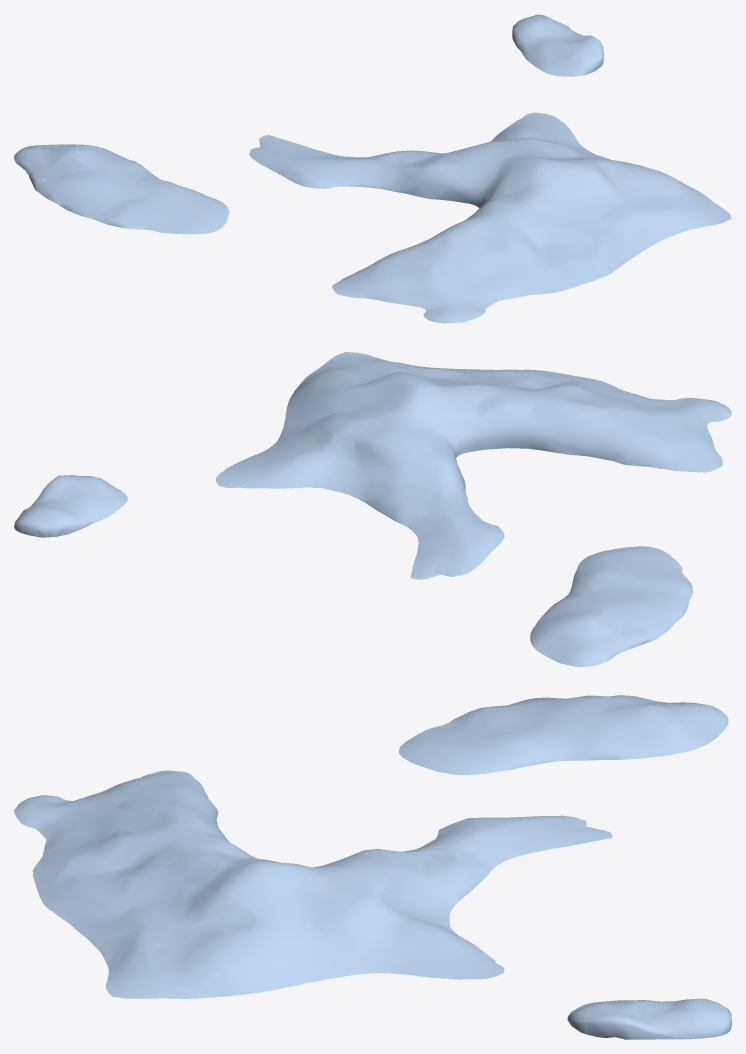
The model's file is IcePatchSmall_01_Bumpy.fbx.
3 renders of one model, top to bottom at view 1: azimuth 30°, elevation 25°; view 2: azimuth 150°, elevation 25°; view 3: azimuth 270°, elevation 25°, orthographic. The views are drawn at different scales.
Parts seen in each view (by area): view 1: IcePatchSmall_01_Bumpy.001; view 2: IcePatchSmall_01_Bumpy.001; view 3: IcePatchSmall_01_Bumpy.001.
Part boxes in pixels (bbox=[...]): IcePatchSmall_01_Bumpy.001: bbox=[14, 14, 731, 323]; IcePatchSmall_01_Bumpy.001: bbox=[14, 352, 731, 666]; IcePatchSmall_01_Bumpy.001: bbox=[14, 695, 731, 1039].
Bounding box in the file's own units: 2 × 0.1493 × 1.78.
